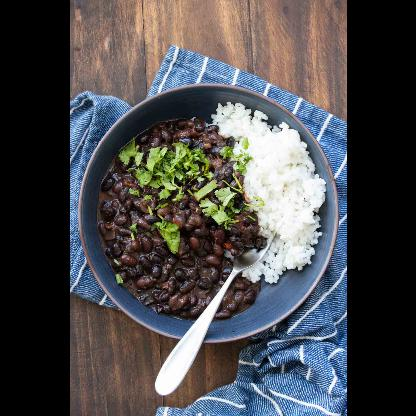black beans: (94, 116, 260, 320)
white rice: (206, 100, 324, 282)
